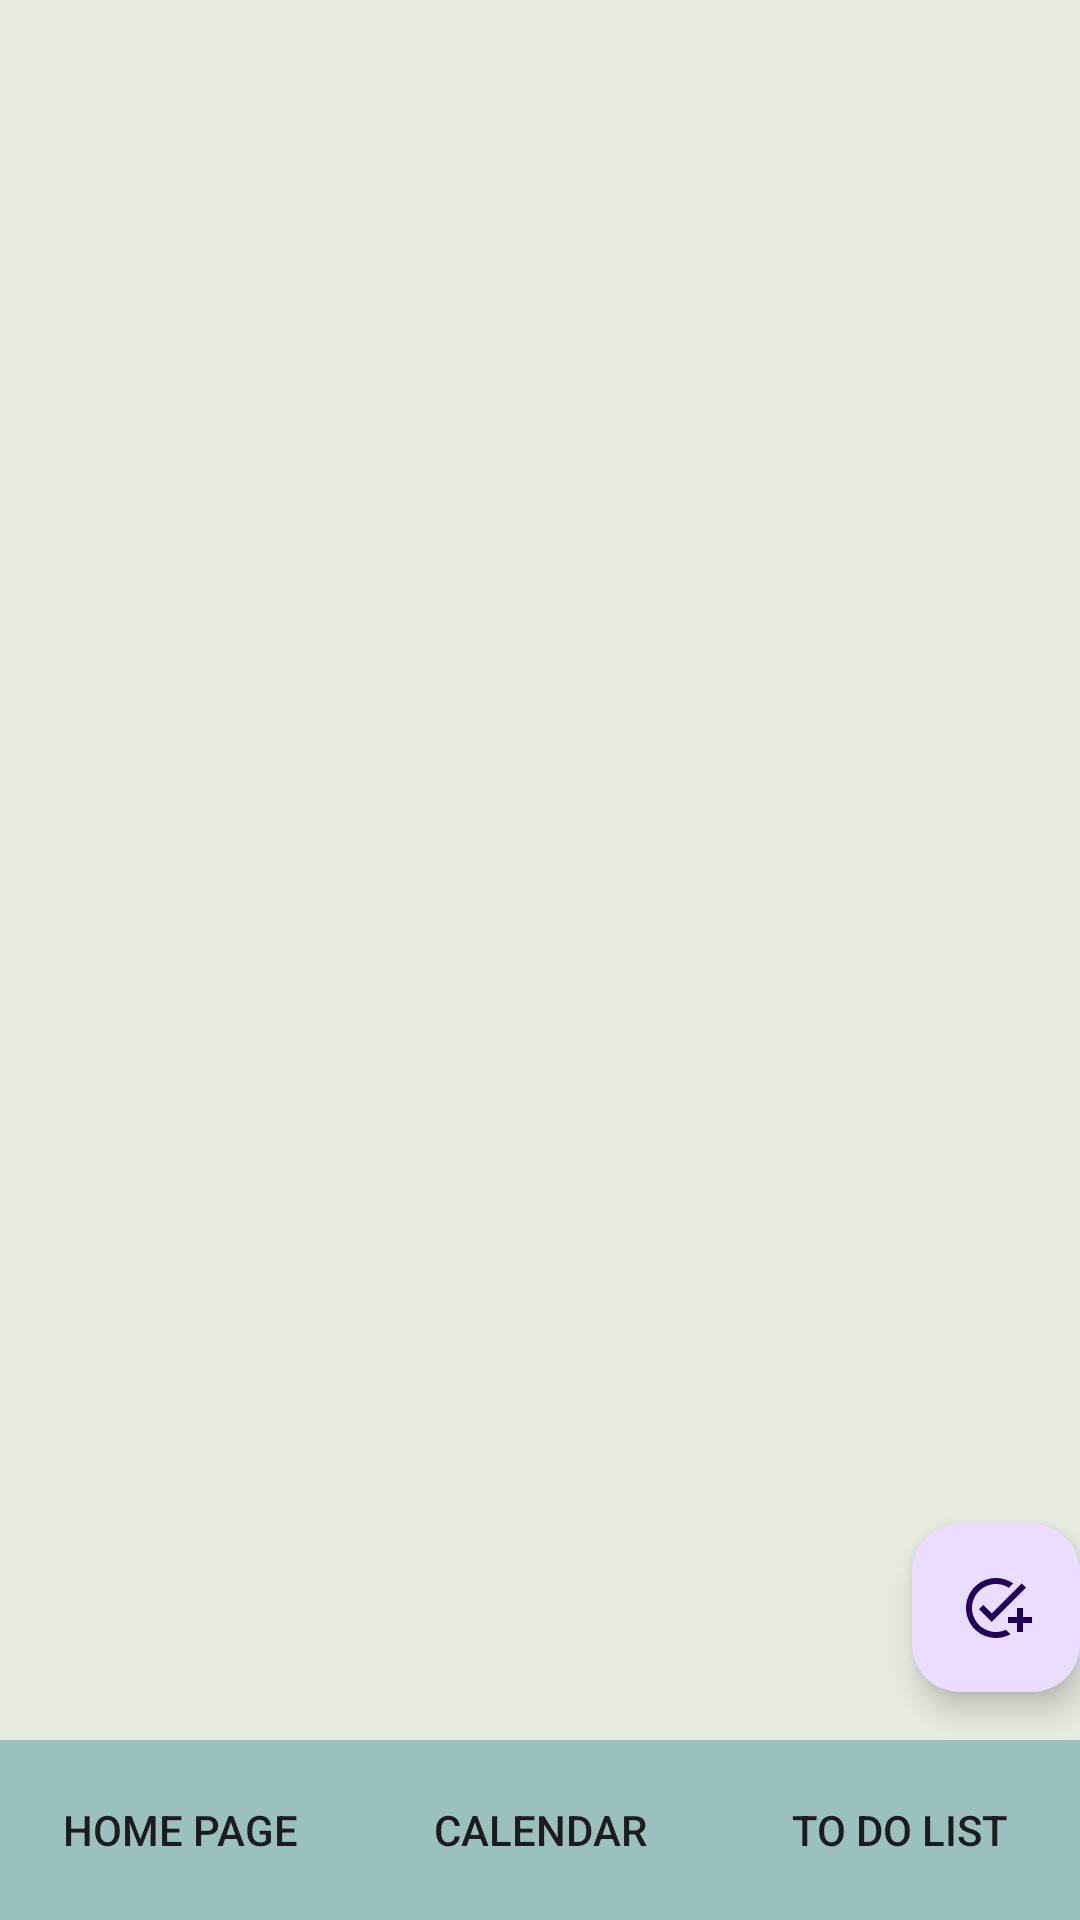

Where to tap for icons on this 1080 x 1920 app screen, as (x,y):
Add Task: (996,1608)
